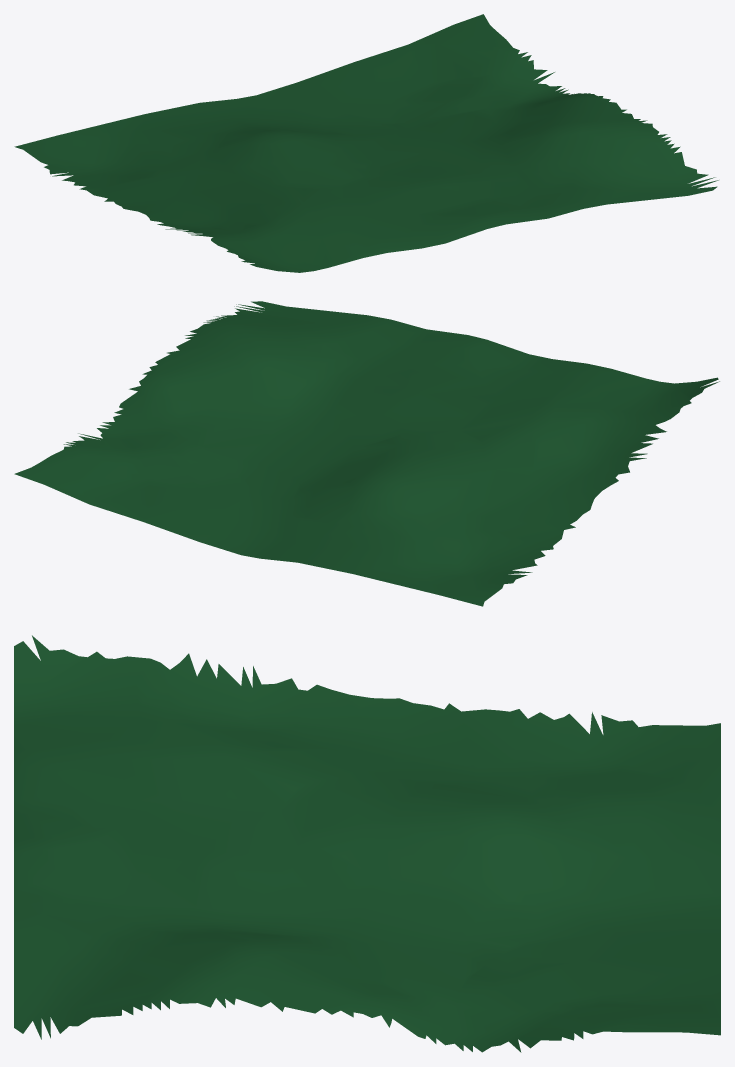
Rendered from payo_land_xm1_ym4_lod2.glb.
3 views of the same model, one above another, from view 1: azimuth 30°, elevation 25°; view 2: azimuth 150°, elevation 25°; view 3: azimuth 270°, elevation 25° (orthographic). The views are drawn at different scales.
Visible parts, largest first — view 1: payo_land_xm1_ym4; view 2: payo_land_xm1_ym4; view 3: payo_land_xm1_ym4.
Boxes of the visible parts, x1=… form: payo_land_xm1_ym4: x1=14, y1=14, x2=718, y2=272; payo_land_xm1_ym4: x1=14, y1=301, x2=719, y2=606; payo_land_xm1_ym4: x1=14, y1=635, x2=720, y2=1052.
Size of the model in its own units: 271 by 34.36 by 231.
